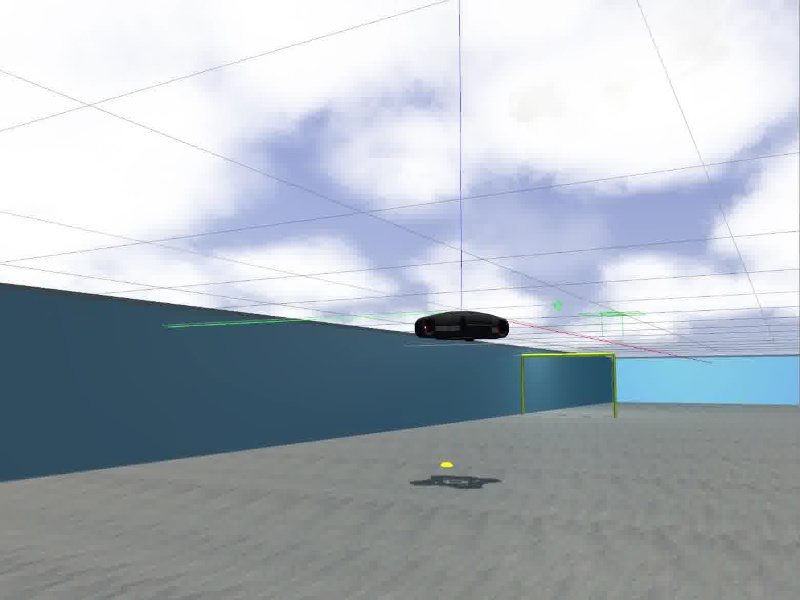gate: (519, 353, 618, 417)
